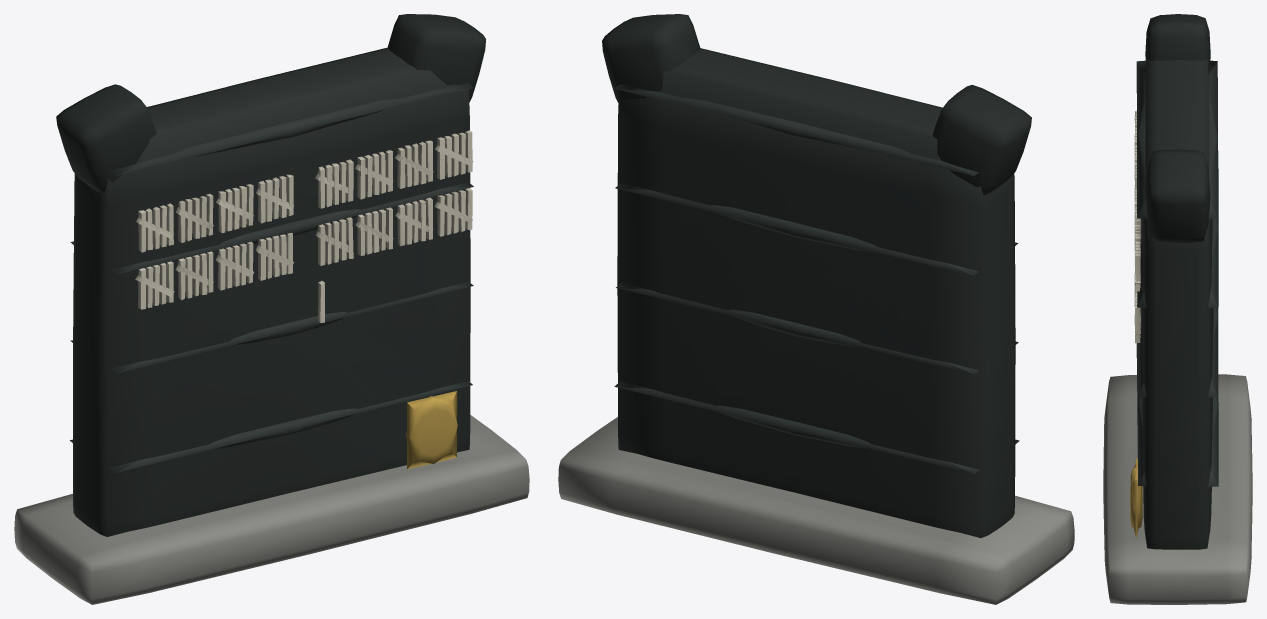
File: tally_slab_a.glb
3 renders of one model, left to right at view 1: azimuth 30°, elevation 25°; view 2: azimuth 150°, elevation 25°; view 3: azimuth 270°, elevation 25°, orthographic. The views are drawn at different scales.
Parts seen in each view (by area): view 1: Surface; view 2: Surface; view 3: Surface.
Part boxes in pixels (x1,y1,x2,y2): Surface: (14,14,529,604); Surface: (558,14,1074,604); Surface: (1103,14,1252,604).
Bounding box in the file's own units: 1.8 × 1.82 × 0.5778.
